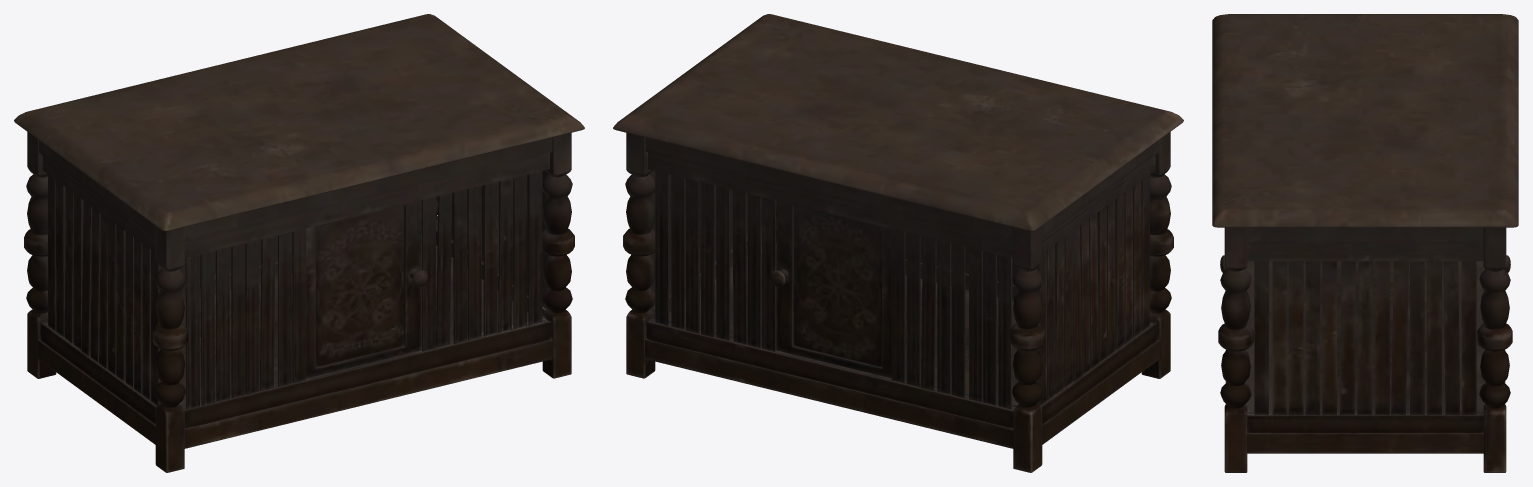
File: gallinera_table.glb
3 renders of one model, left to right at view 1: azimuth 30°, elevation 25°; view 2: azimuth 150°, elevation 25°; view 3: azimuth 270°, elevation 25°, orthographic.
Visible parts, largest first — view 1: gallinera_table; view 2: gallinera_table; view 3: gallinera_table.
Part boxes in pixels (box(x1,y1,x2,y2)): gallinera_table: box(14, 14, 584, 472); gallinera_table: box(613, 14, 1183, 472); gallinera_table: box(1212, 14, 1518, 472).
Bounding box in the file's own units: 0.8301 × 0.4878 × 0.5183.
1 material, 1 textured.
